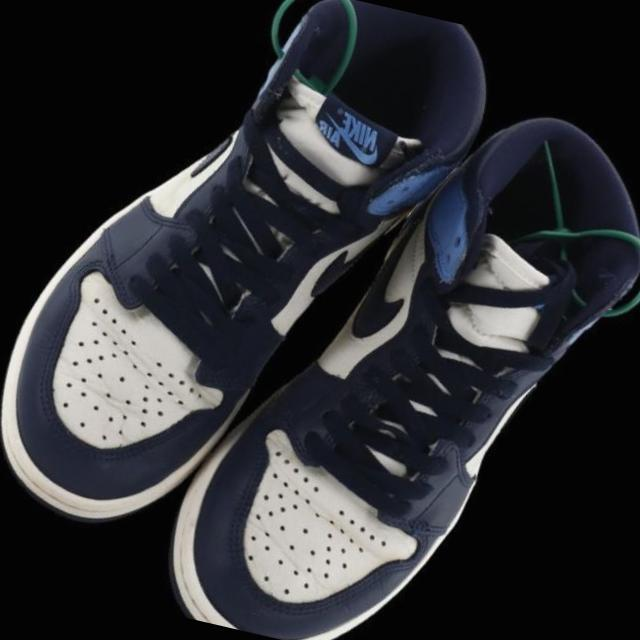nike_original_jordan: (105, 3, 640, 640), (0, 0, 535, 636)
